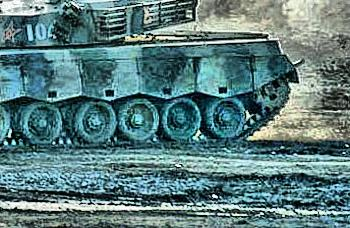tanks: (1, 1, 299, 146)
